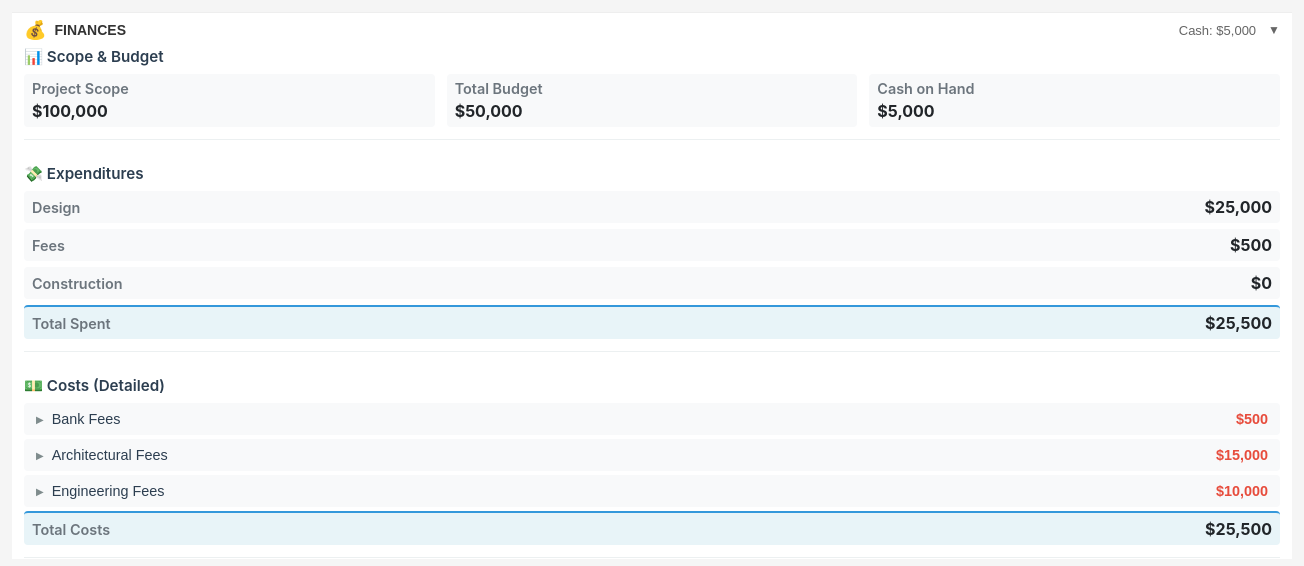
Test: FinancesSection › Cost Tracking Display › should collapse cost category details when header clicked twice
The image size is (1304, 566).
Note: First click - expand
Click the button "▶ Architectural Fees $15,000". click: (110, 455)
box: [24,439,1280,471]
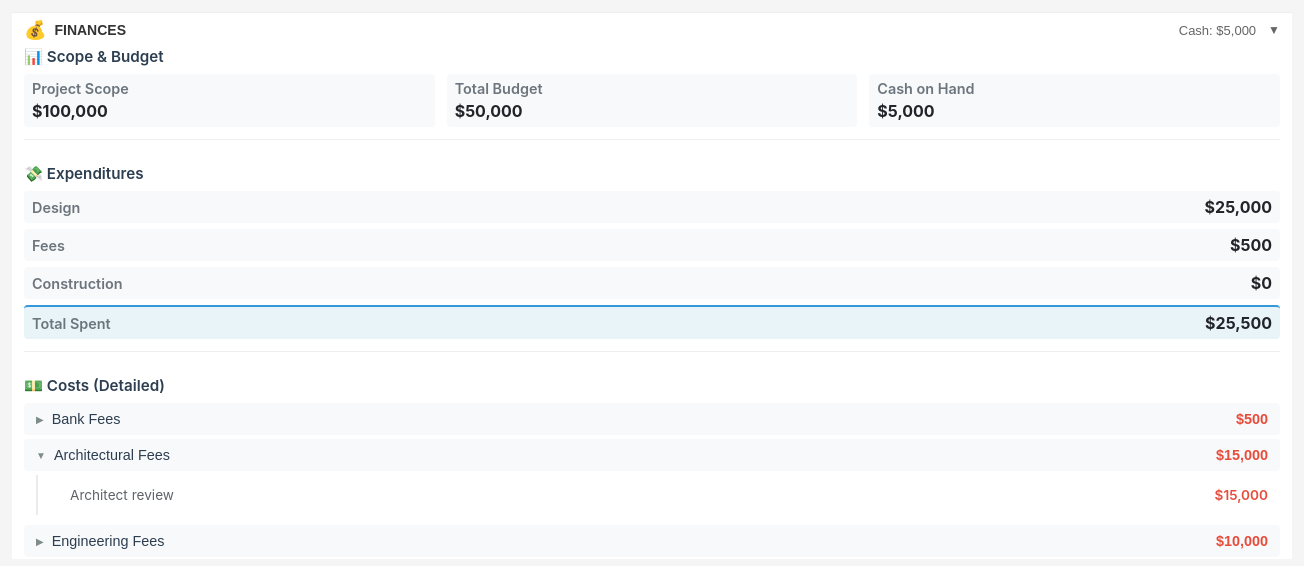
Check: the text "Architect review" is shown, box [70,487,174,503]
Note: Second click - collapse
Click the button "▼ Architectural Fees $15,000". click: (112, 455)
box: [24,439,1280,471]
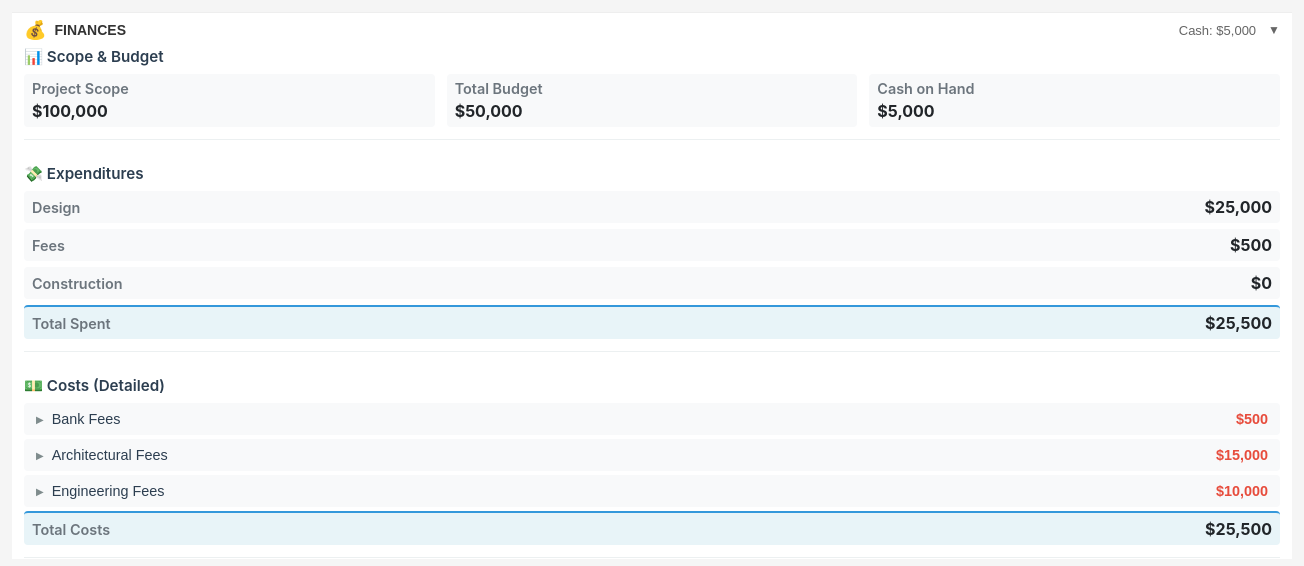
Check: the text "Architect review" is gone
